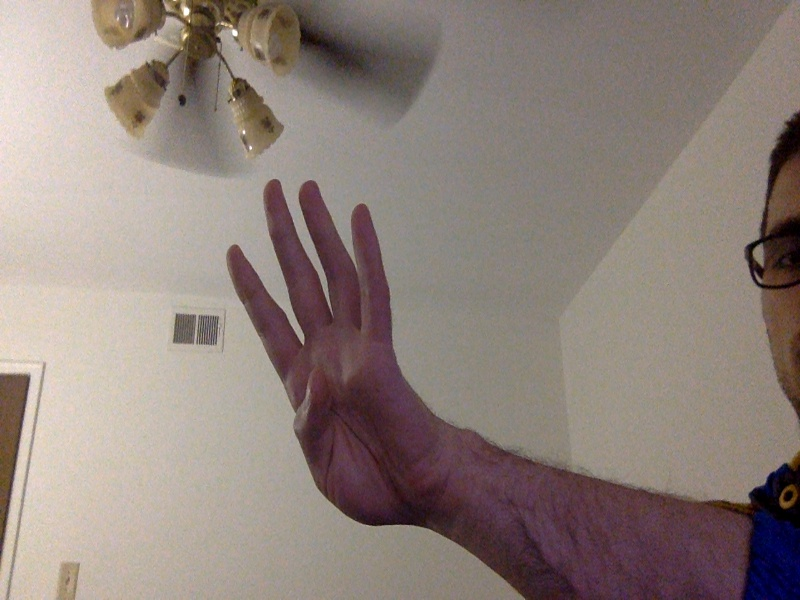4-hand: (226, 180, 419, 541)
